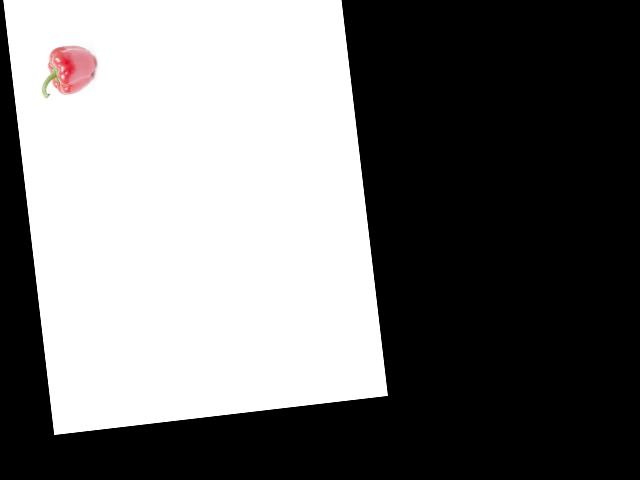bell_pepper: (35, 38, 100, 101)
